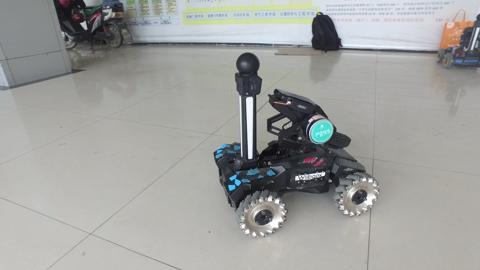bag: (309, 8, 344, 55), (442, 7, 475, 53)
chariot: (212, 49, 381, 240), (434, 11, 479, 71)
